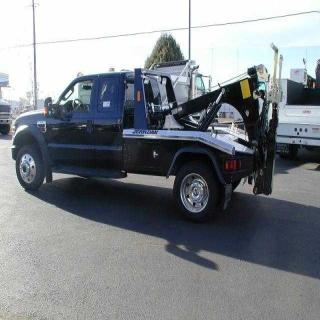Towing_truck: (9, 58, 280, 223)
